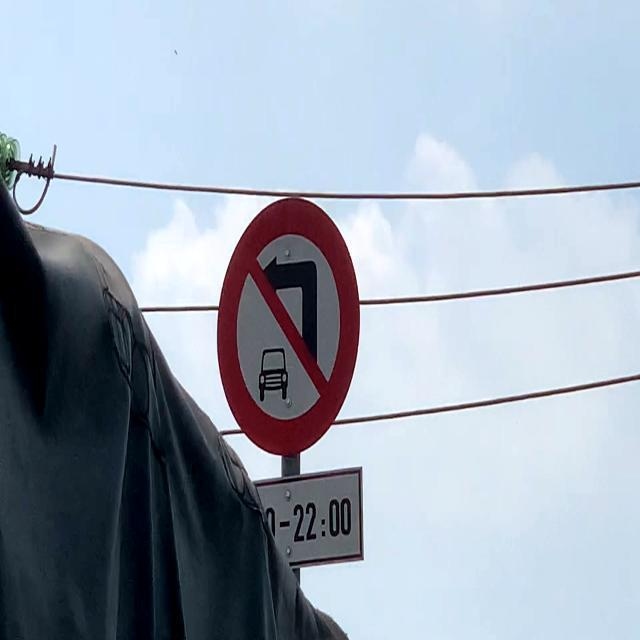123a-cam-re-trai: (215, 200, 364, 456)
